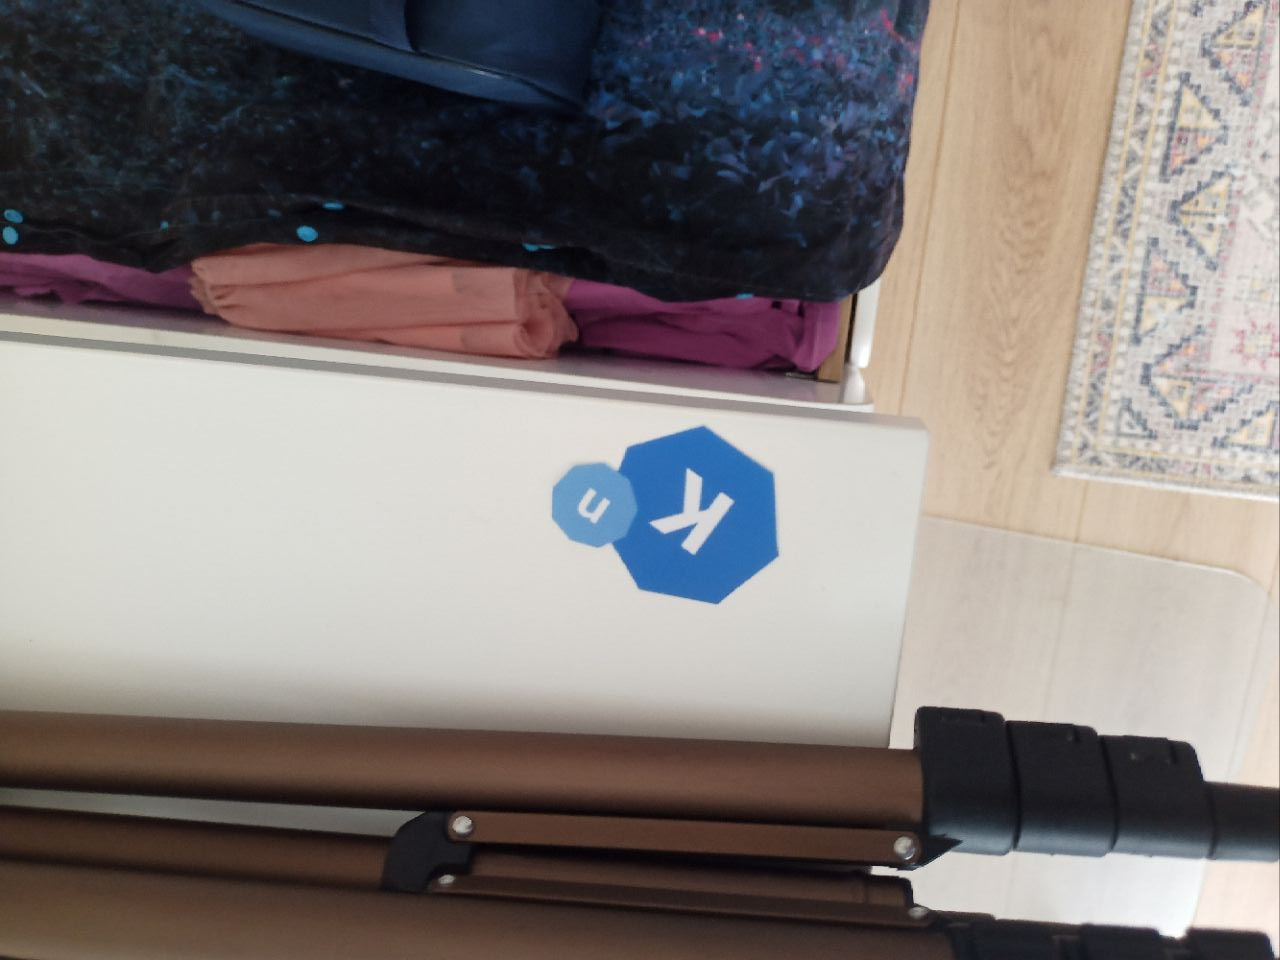knative: (548, 423, 782, 606)
